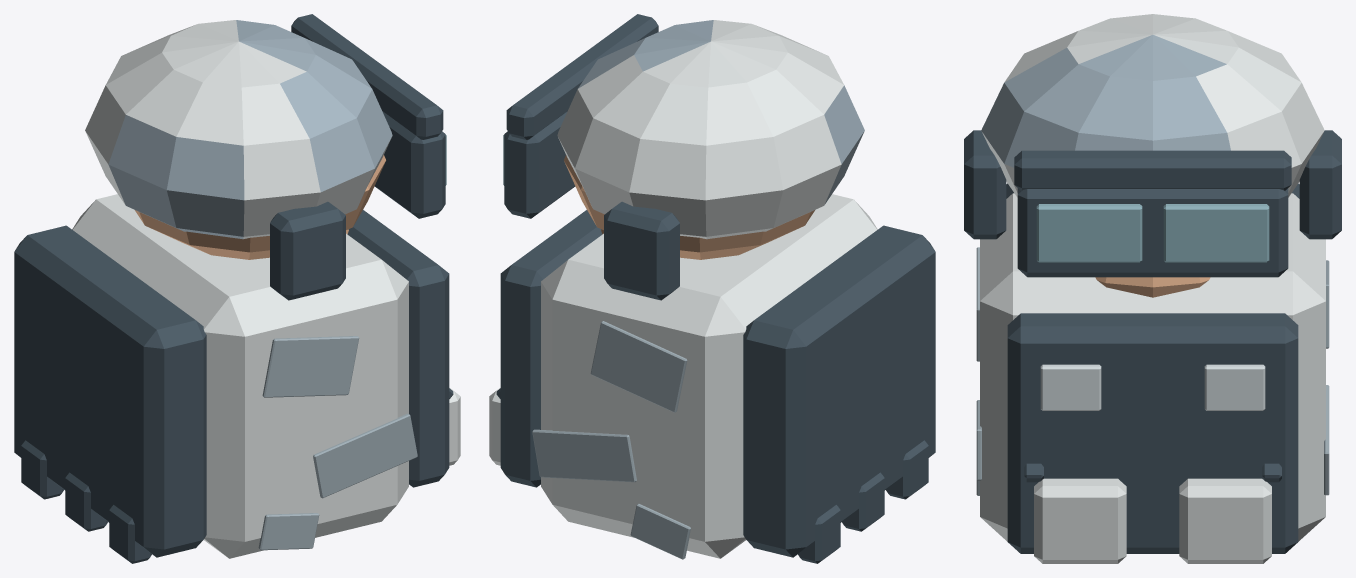
File: steel-recon.polar-camo.glb
3 renders of one model, left to right at view 1: azimuth 30°, elevation 25°; view 2: azimuth 150°, elevation 25°; view 3: azimuth 270°, elevation 25°, orthographic. The views are drawn at different scales.
Visible parts, largest first — view 1: steel-recon_polar-camo__main__torso_finish_485863_0.03, steel-recon_polar-camo__main__torso_finish_e0e5e5_0.03, steel-recon_polar-camo__main__head_finish_e0e5e5_0.03|finish, steel-recon_polar-camo__main__head_finish_485863_0.03, steel-recon_polar-camo__main__torso_finish_a0afb7_0.03, steel-recon_polar-camo__main__head_finish_e2b28e_0.03; view 2: steel-recon_polar-camo__main__torso_finish_485863_0.03, steel-recon_polar-camo__main__torso_finish_e0e5e5_0.03, steel-recon_polar-camo__main__head_finish_e0e5e5_0.03|finish, steel-recon_polar-camo__main__head_finish_485863_0.03, steel-recon_polar-camo__main__torso_finish_a0afb7_0.03, steel-recon_polar-camo__main__head_finish_e2b28e_0.03; view 3: steel-recon_polar-camo__main__torso_finish_485863_0.03, steel-recon_polar-camo__main__torso_finish_e0e5e5_0.03, steel-recon_polar-camo__main__head_finish_e0e5e5_0.03|finish, steel-recon_polar-camo__main__head_finish_485863_0.03, steel-recon_polar-camo__main__head_finish_91b6c0_0.03, steel-recon_polar-camo__main__torso_finish_d8e1e4_0.03, steel-recon_polar-camo__main__torso_finish_a0afb7_0.03, steel-recon_polar-camo__main__head_finish_e2b28e_0.03.
Boxes of the visible parts, <box> form: steel-recon_polar-camo__main__torso_finish_485863_0.03: <box>14,210,453,563</box>; steel-recon_polar-camo__main__torso_finish_e0e5e5_0.03: <box>72,194,460,558</box>; steel-recon_polar-camo__main__head_finish_e0e5e5_0.03|finish: <box>85,20,392,239</box>; steel-recon_polar-camo__main__head_finish_485863_0.03: <box>270,14,445,300</box>; steel-recon_polar-camo__main__torso_finish_a0afb7_0.03: <box>258,336,417,550</box>; steel-recon_polar-camo__main__head_finish_e2b28e_0.03: <box>135,155,385,259</box>; steel-recon_polar-camo__main__torso_finish_485863_0.03: <box>496,210,935,563</box>; steel-recon_polar-camo__main__torso_finish_e0e5e5_0.03: <box>489,194,877,558</box>; steel-recon_polar-camo__main__head_finish_e0e5e5_0.03|finish: <box>557,20,864,239</box>; steel-recon_polar-camo__main__head_finish_485863_0.03: <box>504,14,679,300</box>; steel-recon_polar-camo__main__torso_finish_a0afb7_0.03: <box>532,321,690,559</box>; steel-recon_polar-camo__main__head_finish_e2b28e_0.03: <box>564,155,814,259</box>; steel-recon_polar-camo__main__torso_finish_485863_0.03: <box>1006,183,1299,553</box>; steel-recon_polar-camo__main__torso_finish_e0e5e5_0.03: <box>980,193,1325,563</box>; steel-recon_polar-camo__main__head_finish_e0e5e5_0.03|finish: <box>981,14,1324,197</box>; steel-recon_polar-camo__main__head_finish_485863_0.03: <box>964,130,1341,277</box>; steel-recon_polar-camo__main__head_finish_91b6c0_0.03: <box>1036,204,1269,262</box>; steel-recon_polar-camo__main__torso_finish_d8e1e4_0.03: <box>1040,364,1265,410</box>; steel-recon_polar-camo__main__torso_finish_a0afb7_0.03: <box>976,247,1329,495</box>; steel-recon_polar-camo__main__head_finish_e2b28e_0.03: <box>1095,277,1210,297</box>.
Bounding box in the file's own units: 30.65 × 39.5 × 28.6.
